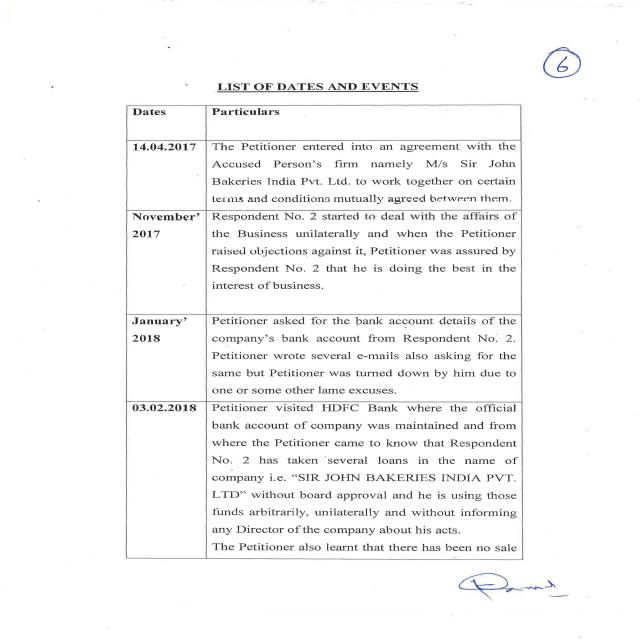page-number: (422, 4, 636, 101)
